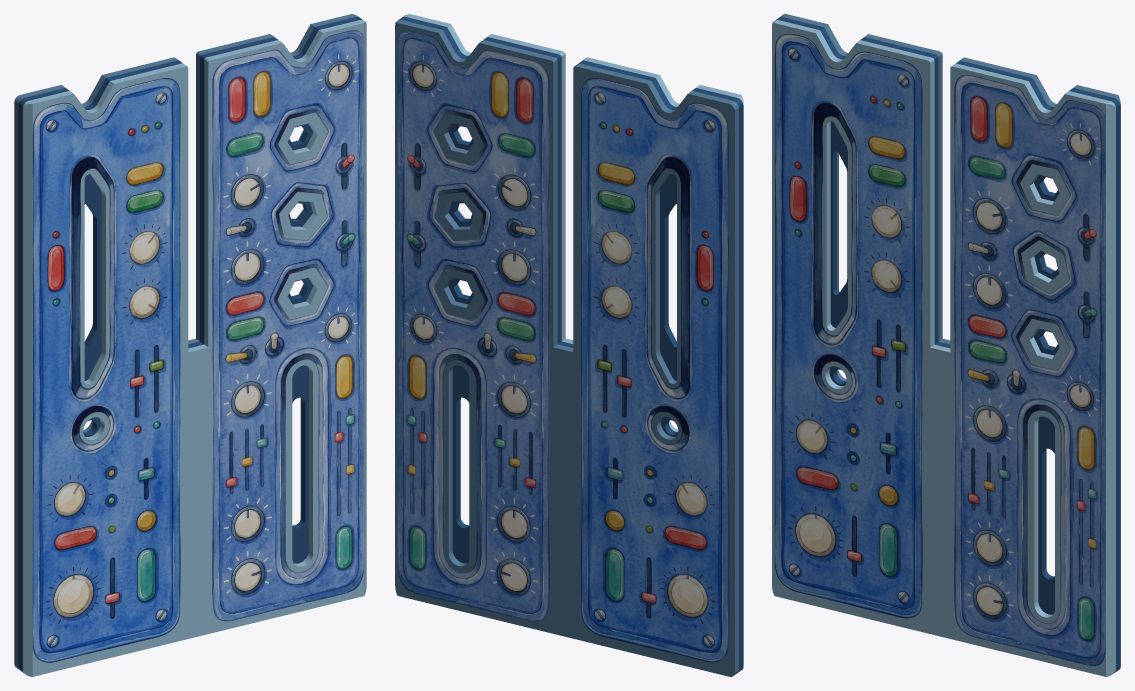
The model's file is narrow-1-bottom.glb.
3 renders of one model, left to right at view 1: azimuth 30°, elevation 25°; view 2: azimuth 150°, elevation 25°; view 3: azimuth 330°, elevation 25°, orthographic.
Visible parts, largest first — view 1: narrow-1-bottom; view 2: narrow-1-bottom; view 3: narrow-1-bottom.
Boxes of the visible parts, x1=… form: narrow-1-bottom: x1=14, y1=14, x2=366, y2=676; narrow-1-bottom: x1=395, y1=14, x2=743, y2=676; narrow-1-bottom: x1=772, y1=14, x2=1120, y2=676.
Bounding box in the file's own units: 580 × 925 × 36.
5 materials, 2 textured.
